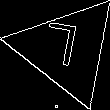L_S: (46, 22, 87, 77)
